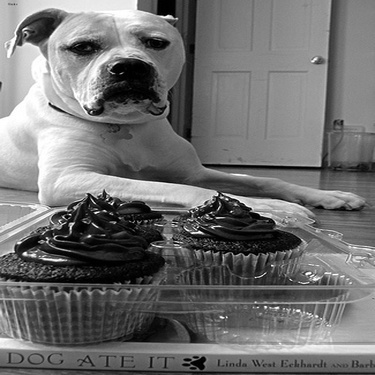dog: (1, 3, 370, 241)
